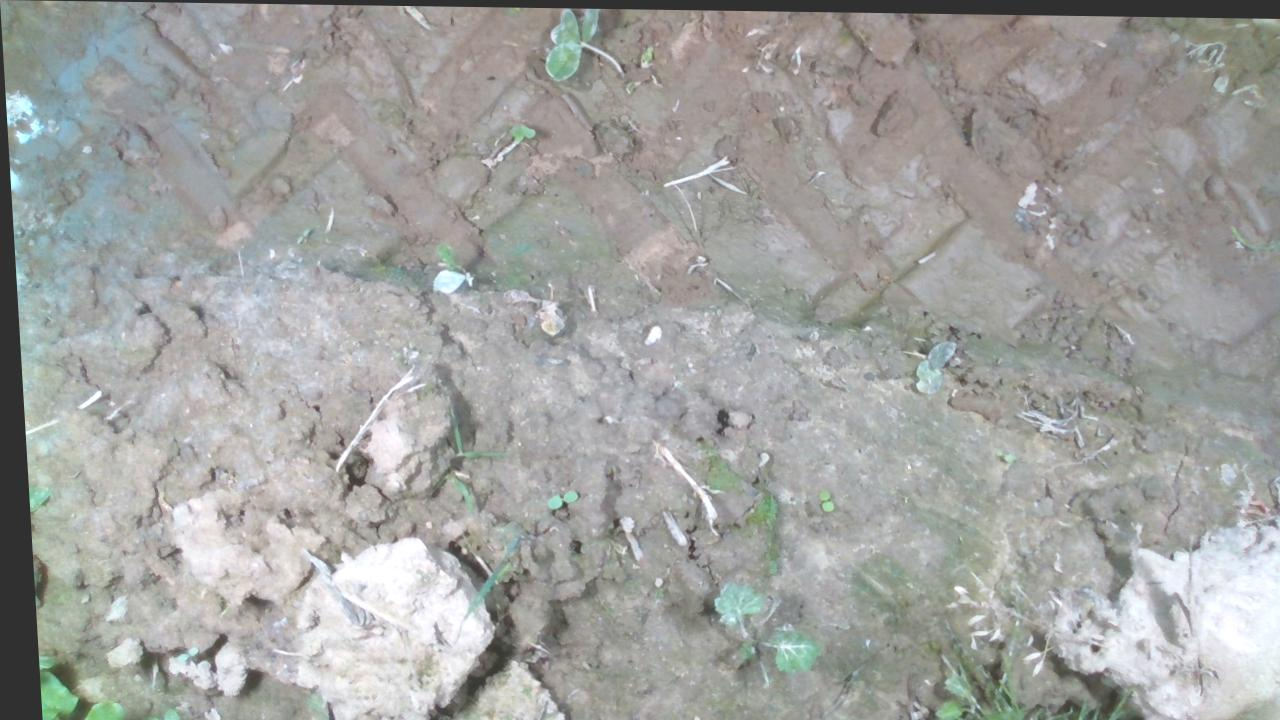weed: (811, 486, 827, 511)
